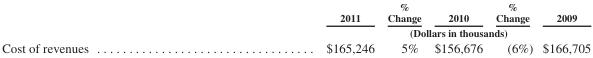table: (1, 0, 590, 54)
table column: (1, 0, 206, 54), (206, 0, 380, 54), (427, 0, 488, 54), (537, 0, 590, 54), (488, 0, 537, 54), (380, 0, 427, 54)
table column header: (1, 0, 590, 39)
table row: (1, 0, 590, 24), (1, 24, 590, 39), (1, 39, 590, 54)
table spanning cell: (206, 24, 590, 39)
